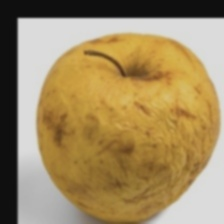apple: (38, 21, 218, 188)
